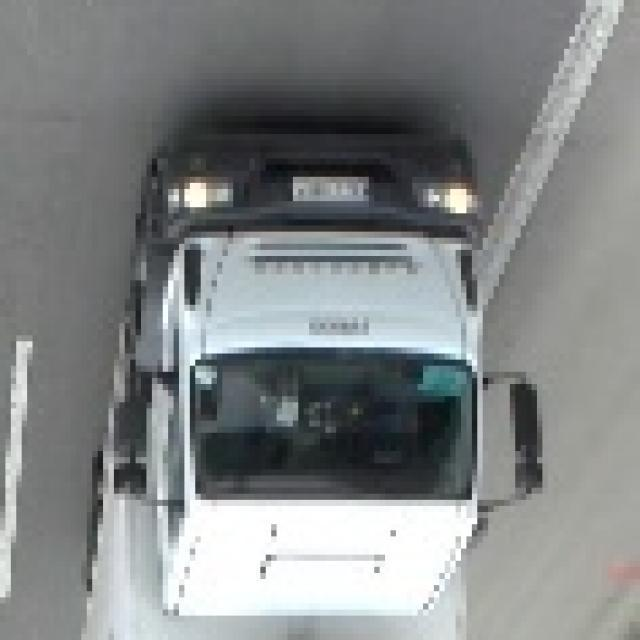Truck: (70, 128, 537, 640)
